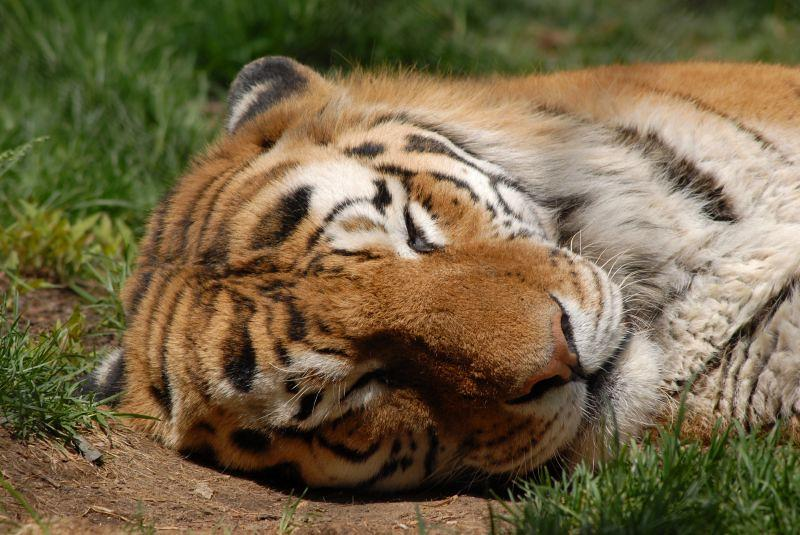tiger: (80, 53, 799, 498)
